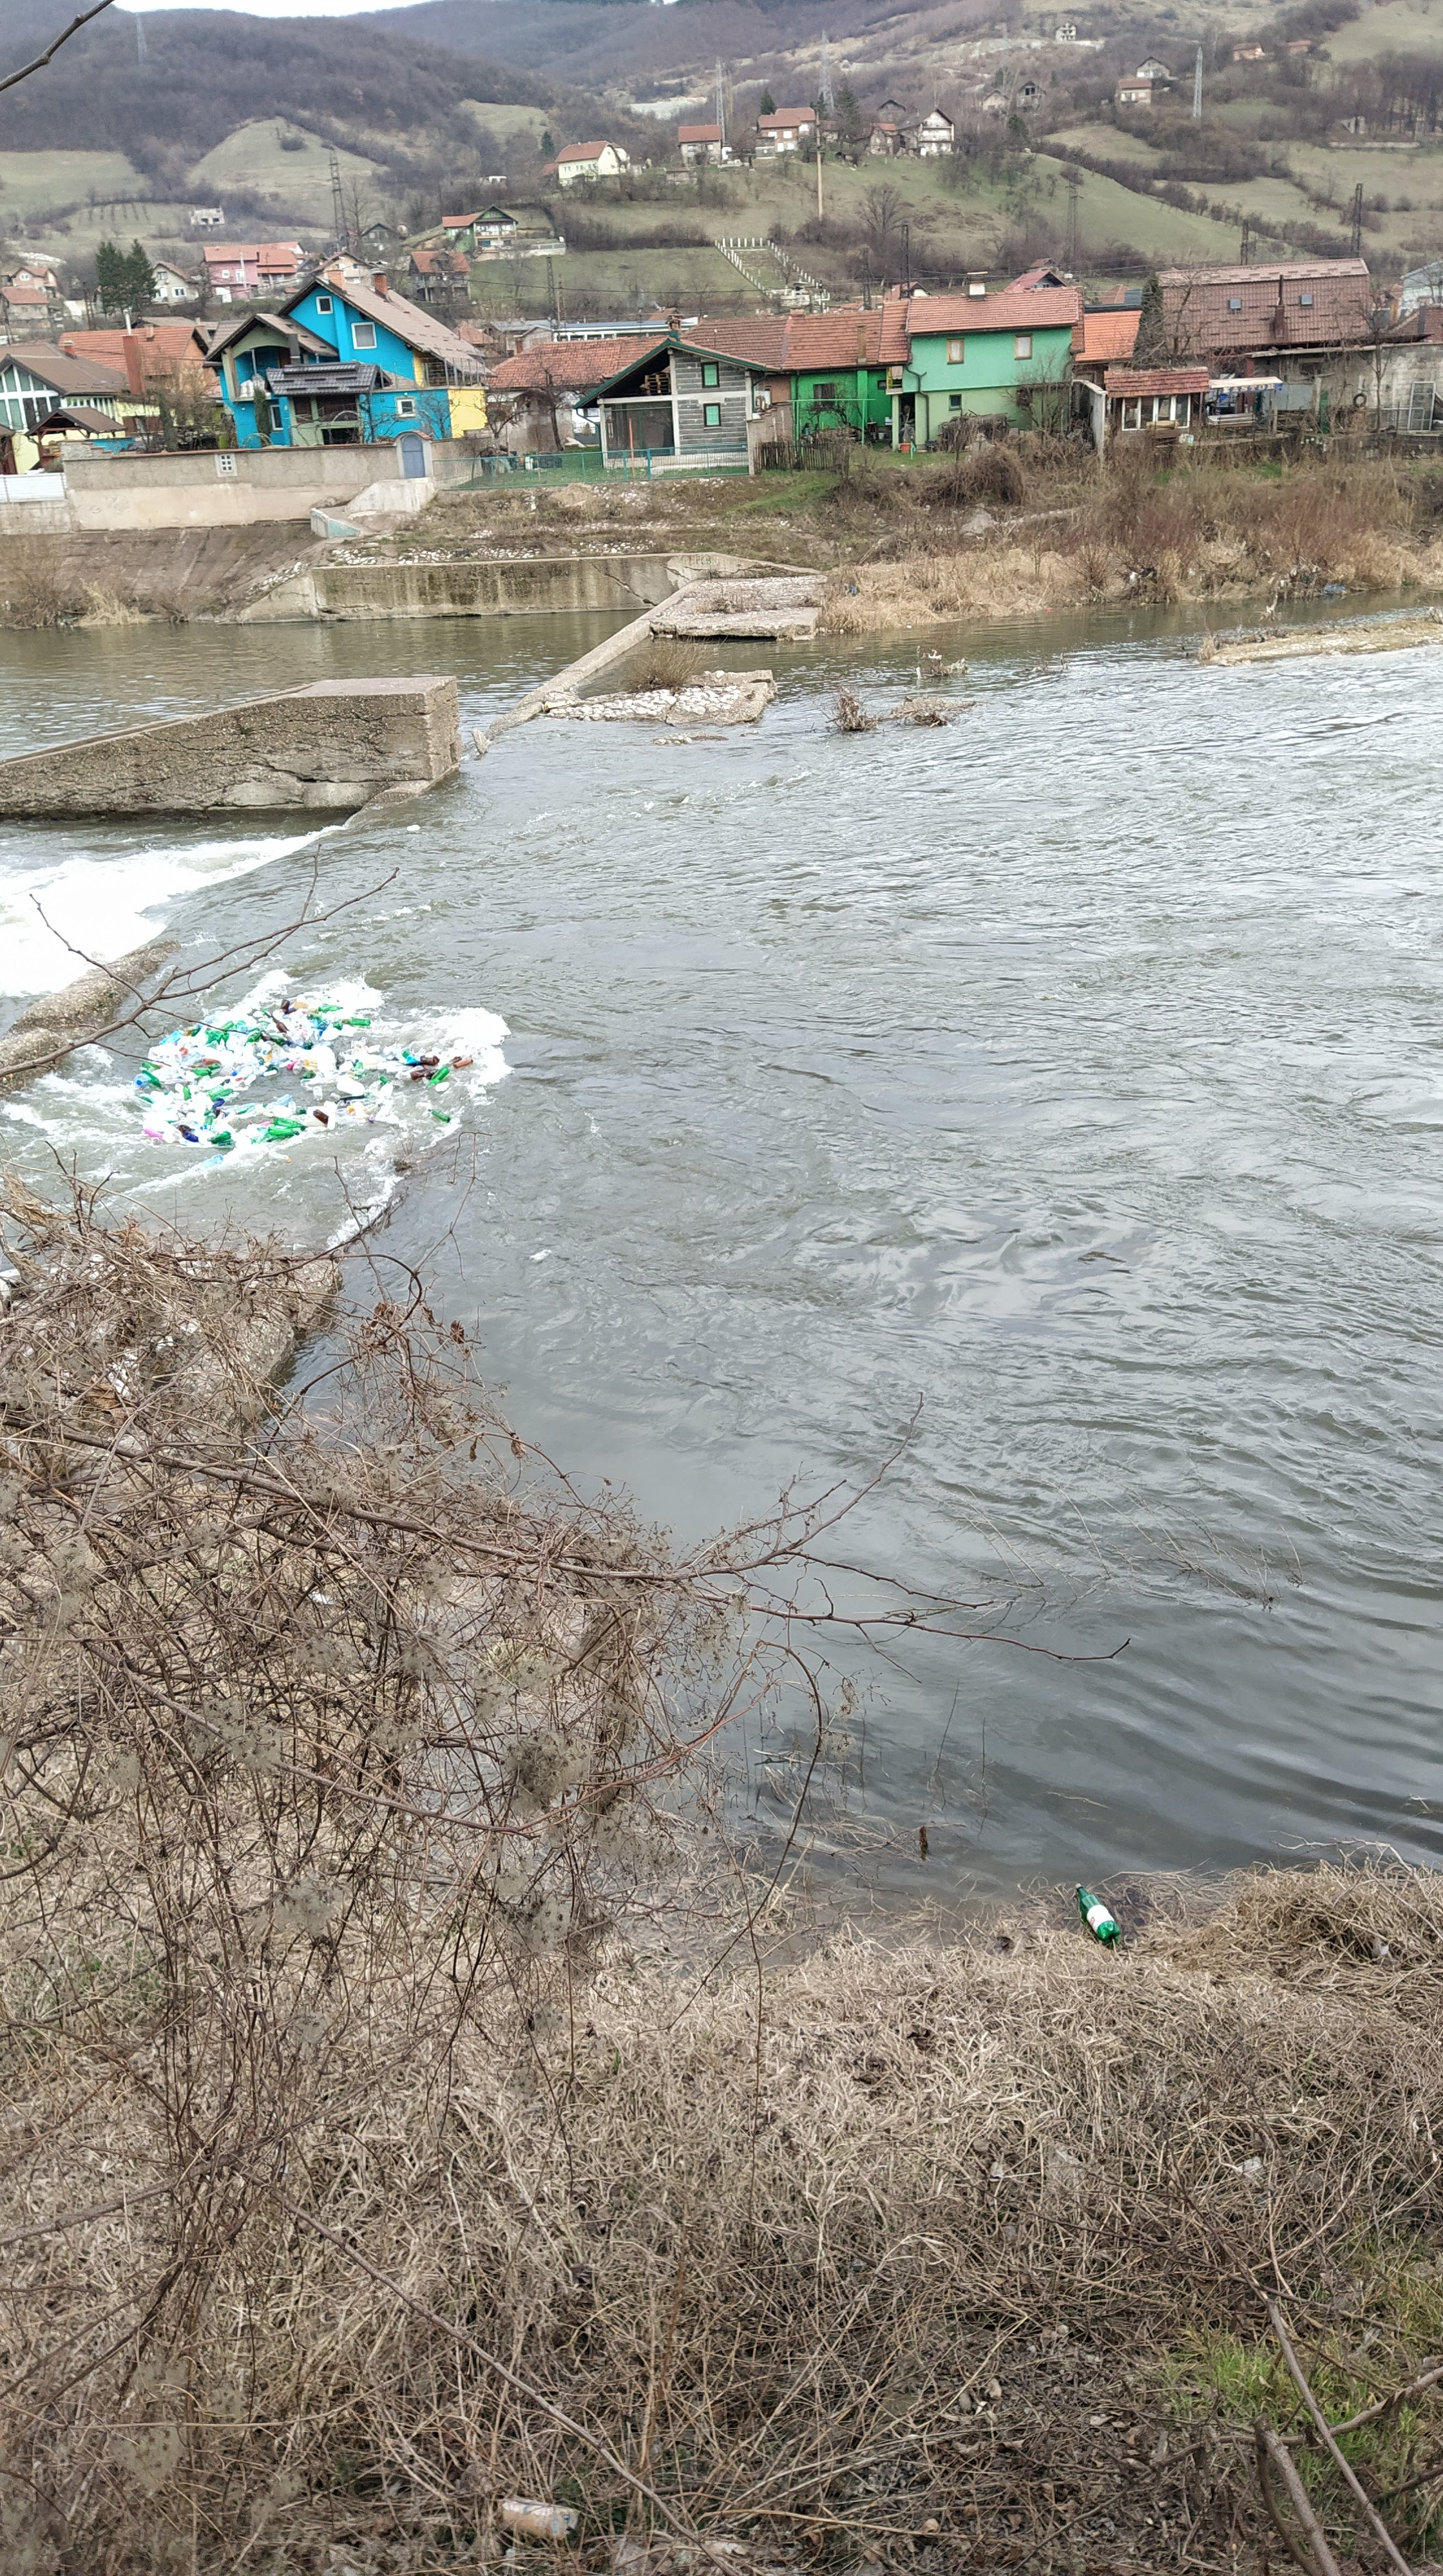Plastic Bottle: (1075, 1882, 1121, 1941), (336, 1077, 365, 1095), (427, 1067, 450, 1086), (198, 1154, 223, 1169), (142, 1070, 163, 1088), (158, 1030, 181, 1044), (529, 1249, 551, 1261), (428, 1109, 450, 1122), (267, 1150, 289, 1162), (274, 1116, 299, 1127), (211, 1088, 234, 1099), (232, 1063, 251, 1076), (347, 1016, 372, 1024), (267, 1127, 292, 1136), (211, 1131, 230, 1141), (313, 1109, 328, 1123), (338, 1060, 352, 1074), (411, 1067, 427, 1079), (455, 1058, 473, 1069), (421, 1054, 439, 1065), (189, 1067, 211, 1076), (381, 1083, 393, 1097), (135, 1074, 149, 1086), (319, 1003, 343, 1010), (145, 1127, 161, 1138), (328, 1111, 336, 1129), (276, 1093, 290, 1104), (184, 1132, 198, 1143), (142, 1062, 158, 1070), (266, 1134, 285, 1141), (427, 1069, 439, 1079), (191, 1024, 202, 1037), (216, 1031, 227, 1044), (313, 1085, 322, 1099), (289, 1100, 297, 1115), (177, 1123, 191, 1132), (262, 1069, 276, 1077), (248, 1031, 259, 1042), (205, 1028, 216, 1039), (221, 1021, 234, 1030), (237, 1104, 250, 1113), (182, 1085, 189, 1099), (335, 1021, 345, 1030), (276, 1023, 287, 1031), (220, 1139, 232, 1146), (282, 1000, 289, 1012), (450, 1056, 460, 1063), (205, 1115, 212, 1125), (294, 1060, 299, 1072), (407, 1056, 416, 1063), (402, 1051, 411, 1058), (379, 1076, 388, 1083), (301, 1070, 312, 1076), (209, 1063, 220, 1069), (299, 1108, 305, 1115), (1045, 607, 1052, 610)
